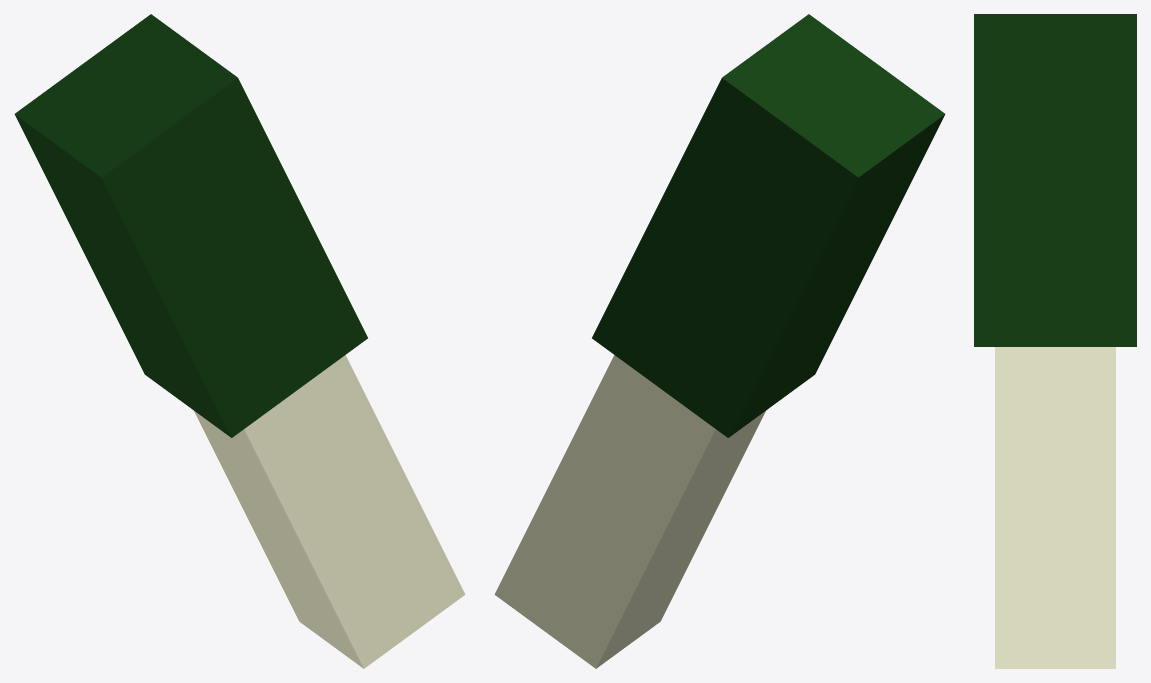
The model's file is float_L_arm.obj.
3 views of the same model, side by side, from view 1: azimuth 30°, elevation 25°; view 2: azimuth 150°, elevation 25°; view 3: azimuth 270°, elevation 25° (orthographic). The views are drawn at different scales.
Parts seen in each view (by area): view 1: 左腕; view 2: 左腕; view 3: 左腕.
Part boxes in pixels (x1=…): 左腕: x1=14, y1=14, x2=465, y2=668; 左腕: x1=494, y1=14, x2=945, y2=668; 左腕: x1=974, y1=14, x2=1136, y2=668.
Size of the model in its own units: 0.6808 by 1.1 by 0.2735.
1 material, 1 textured.
